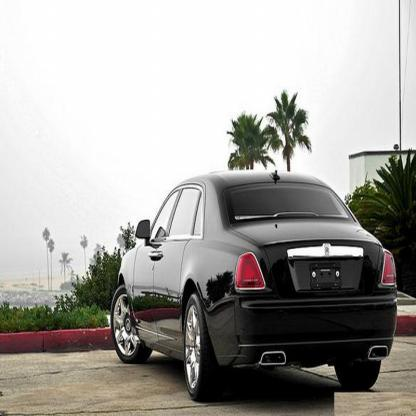Vehicle: (108, 163, 402, 404)
